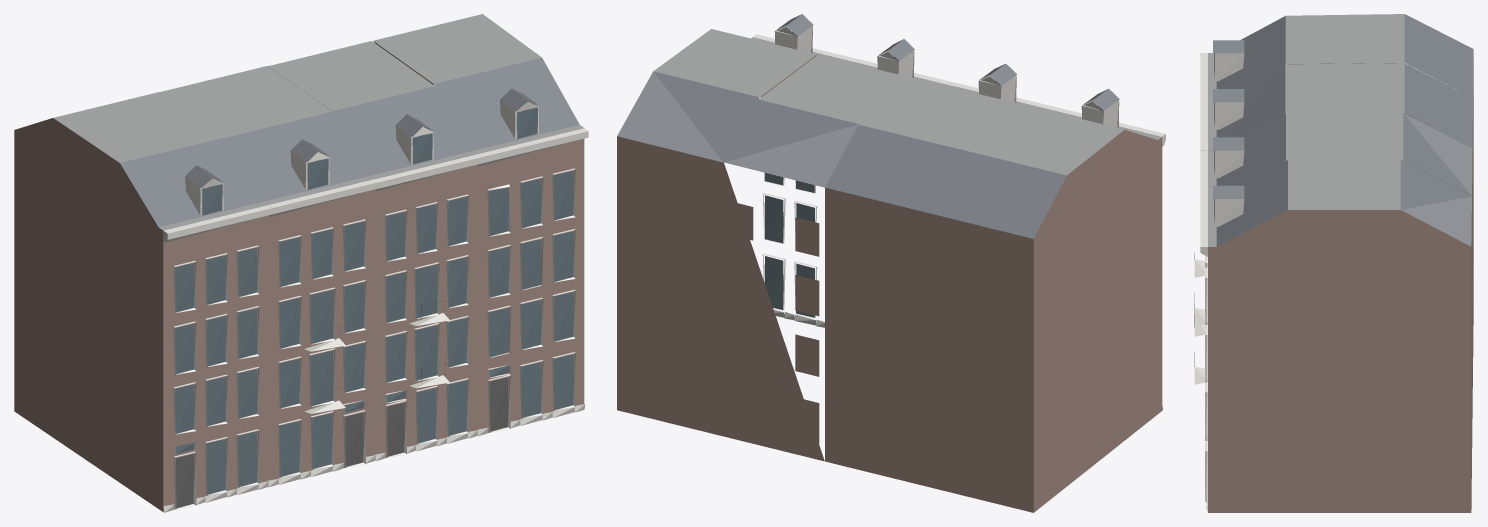
File: chunk-face-florisz-2-10-r1.lod2.glb
3 views of the same model, side by side, from view 1: azimuth 30°, elevation 25°; view 2: azimuth 150°, elevation 25°; view 3: azimuth 270°, elevation 25° (orthographic). The views are drawn at different scales.
Parts seen in each view (by area): view 1: lod2; view 2: lod2; view 3: lod2.
Part boxes in pixels (x1,y1,x2,y2): lod2: (14,14,588,512); lod2: (617,14,1165,512); lod2: (1194,14,1473,512).
Bounding box in the file's own units: 21.41 × 15.28 × 12.76.
